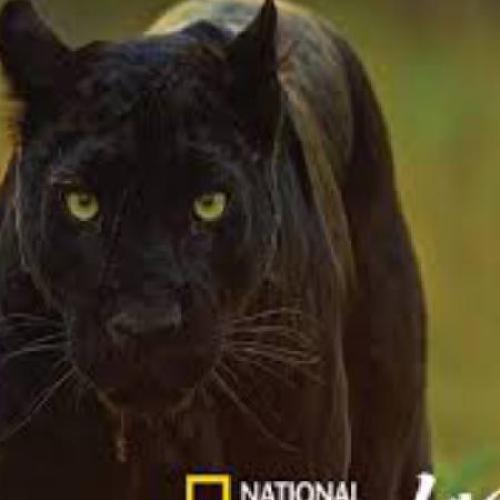panther-endangered: (11, 10, 423, 473)
